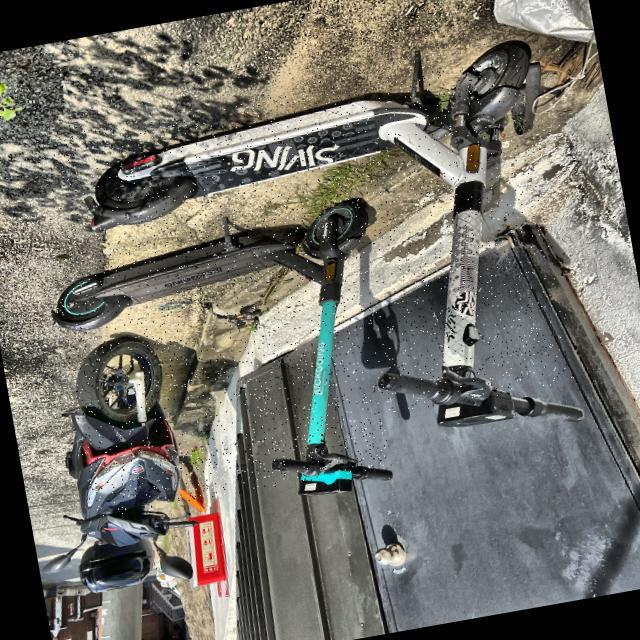bike: (51, 34, 633, 633), (40, 336, 205, 597)
